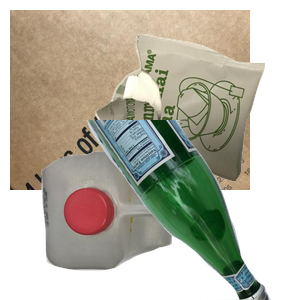cardboard: (10, 10, 250, 190)
glass: (75, 120, 300, 300)
plastic: (39, 149, 203, 300)
trash: (93, 31, 300, 205)
